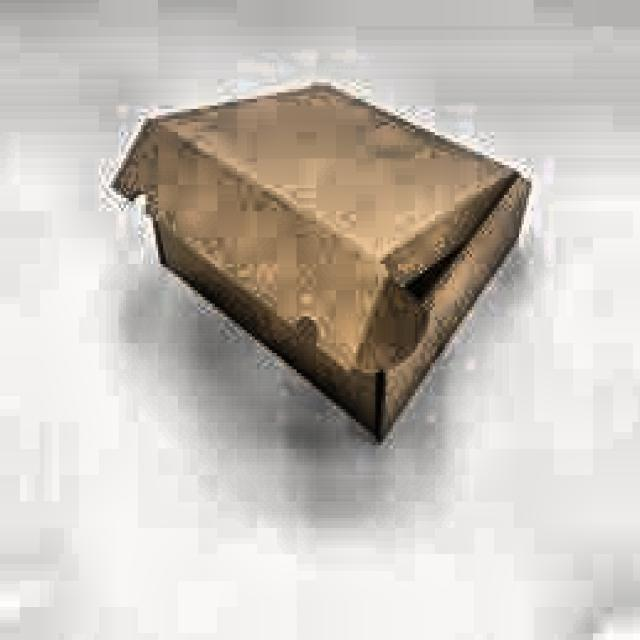Cardbox: (99, 73, 538, 455)
